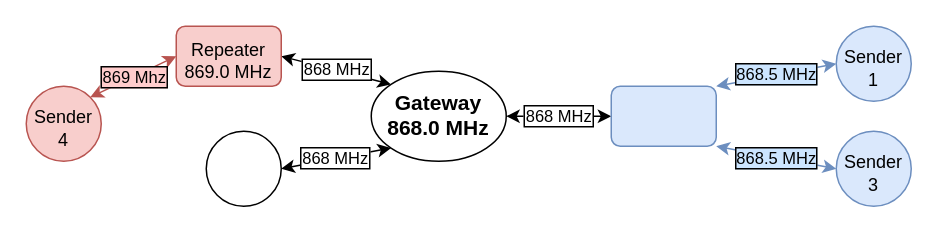
This 938x233 diagram has some shape labels left out. The centre of each missing label's shape, as x and y in pixels:
Repeater 868.5 MHz: the point at 663,115
Sender 2: the point at 243,168
